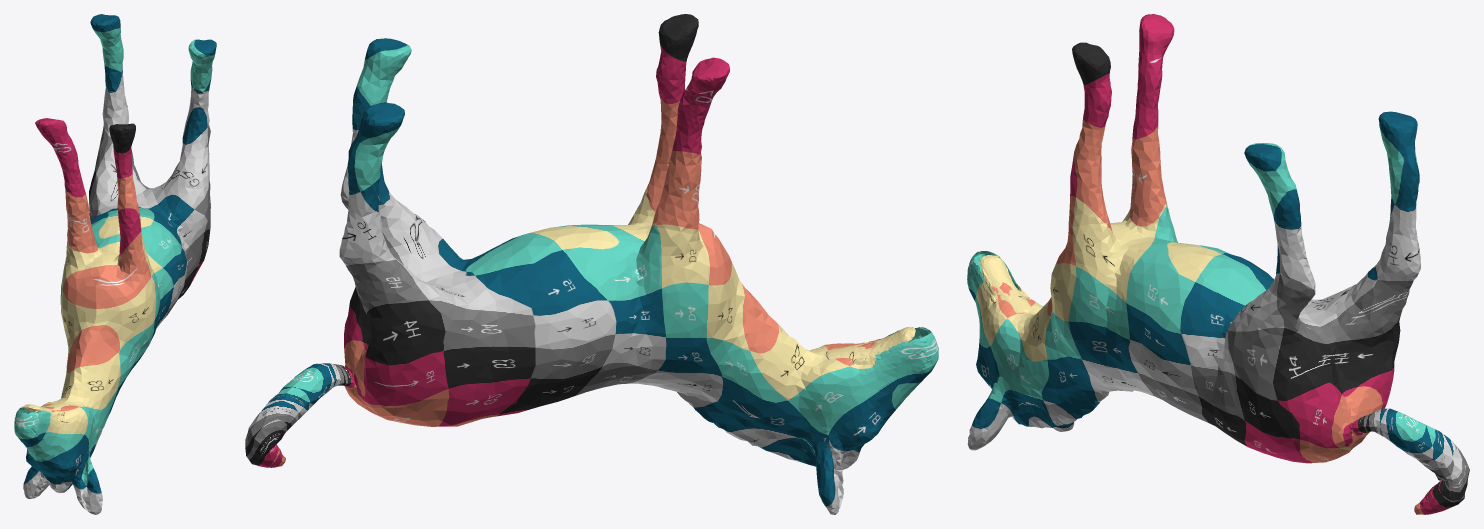
The model's file is hippo_05-horse_10.obj.
3 views of the same model, side by side, from view 1: azimuth 30°, elevation 25°; view 2: azimuth 150°, elevation 25°; view 3: azimuth 270°, elevation 25° (orthographic). The views are drawn at different scales.
Parts seen in each view (by area): view 1: hippo_05-horse_10_export; view 2: hippo_05-horse_10_export; view 3: hippo_05-horse_10_export.
Boxes of the visible parts, x1=… form: hippo_05-horse_10_export: x1=14, y1=14, x2=216, y2=514; hippo_05-horse_10_export: x1=245, y1=14, x2=938, y2=514; hippo_05-horse_10_export: x1=967, y1=14, x2=1469, y2=514.
Size of the model in its own units: 0.7878 by 0.7952 by 0.8038.
